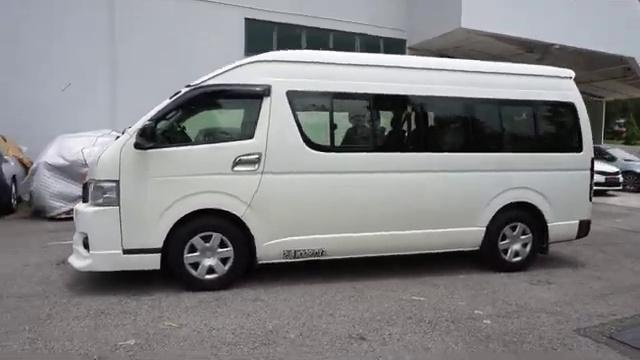van: (65, 49, 599, 277)
